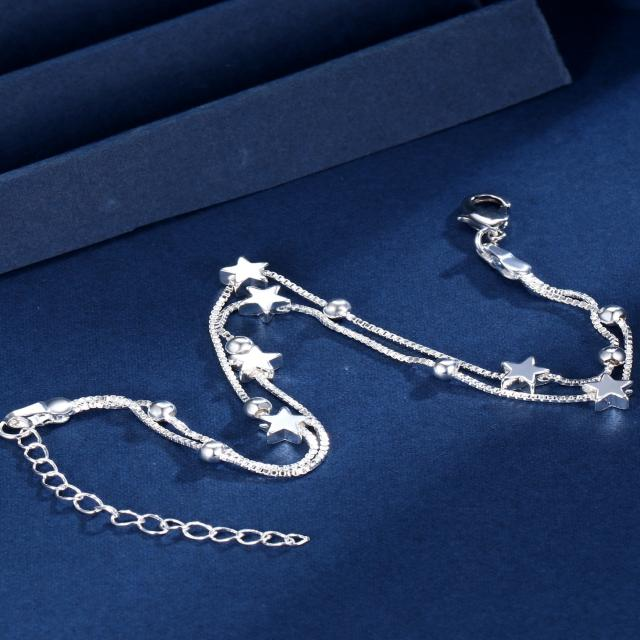bracelet: (0, 121, 640, 601)
